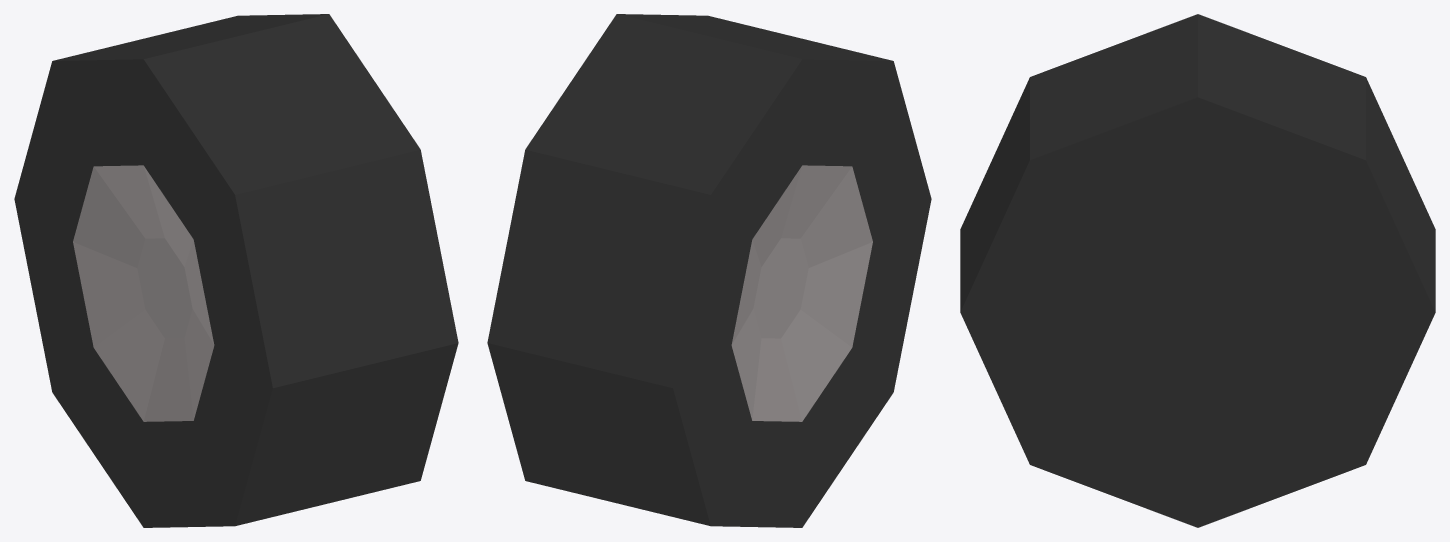
The model's file is forklift-wheel_FR.glb.
3 renders of one model, left to right at view 1: azimuth 30°, elevation 25°; view 2: azimuth 150°, elevation 25°; view 3: azimuth 270°, elevation 25°, orthographic. The views are drawn at different scales.
Parts seen in each view (by area): view 1: forklift-wheel_FR; view 2: forklift-wheel_FR; view 3: forklift-wheel_FR.
Boxes of the visible parts, box(x1,y1,x2,y2) form: forklift-wheel_FR: box(14, 14, 458, 527); forklift-wheel_FR: box(487, 14, 931, 527); forklift-wheel_FR: box(960, 14, 1435, 527).
Bounding box in the file's own units: 0.2137 × 0.5157 × 0.5157.
1 material, 1 textured.
